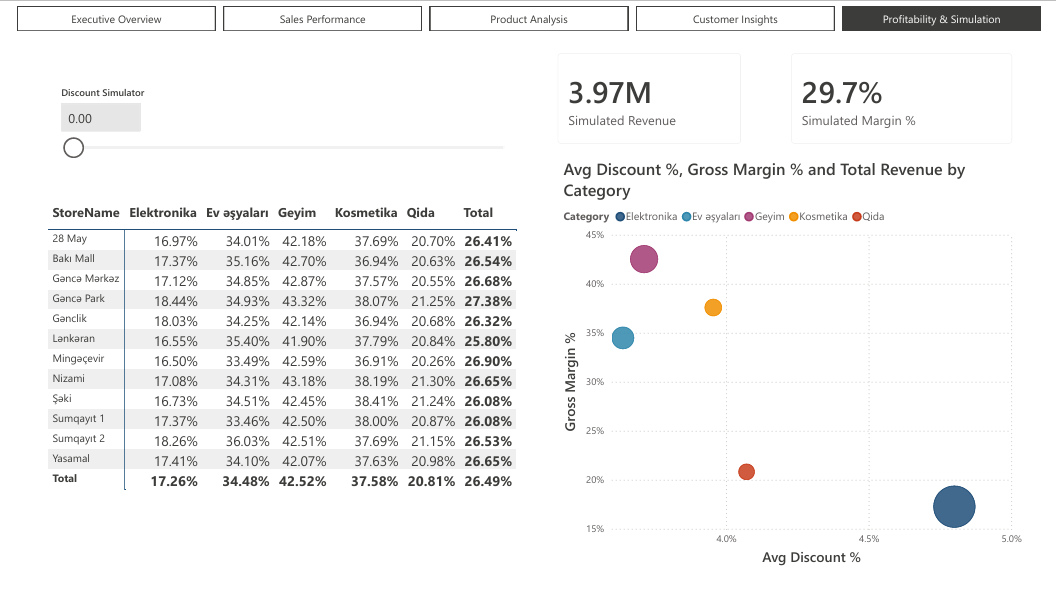

This screenshot's page, from the dashboard's own definition file:
{"tool":"powerbi","page":{"name":"Profitability & Simulation","canvas":[1280,720],"ordinal":4},"visuals":[{"type":"slicer","fields":{"Values":["Discount Simulator.Discount Simulator"]},"box":[42.4,93.7,588.3,95.1],"z":0},{"type":"cardVisual","fields":{"Data":["_Measures.Simulated Revenue"]},"box":[658.5,42.4,263.4,146.3],"z":1000},{"type":"cardVisual","fields":{"Data":["_Measures.Simulated Margin %"]},"box":[951.2,42.4,310.2,146.3],"z":2000},{"type":"pageNavigator","box":[0,0,1280.5,30.7],"z":3000},{"type":"pivotTable","fields":{"Rows":["Dim_Store.StoreName"],"Columns":["Dim_Category.Category"],"Values":["_Measures.Gross Margin %"]},"box":[33.7,241.5,605.9,376.1],"z":3001},{"type":"scatterChart","fields":{"Y":["_Measures.Gross Margin %"],"Series":["Dim_Category.Category"],"X":["_Measures.Avg Discount %"],"Size":["_Measures.Total Revenue"]},"box":[677.6,188.8,583.9,515.1],"z":3002}]}

Visuals, with their boxes in screenshot pixels (x1, y1, x2, y2), scaled from the page's 1280x720 canvas onto the 1056x594 screenshot:
slicer - Discount Simulator.Discount Simulator: {"x1": 35, "y1": 77, "x2": 520, "y2": 156}
cardVisual - _Measures.Simulated Revenue: {"x1": 543, "y1": 35, "x2": 761, "y2": 156}
cardVisual - _Measures.Simulated Margin %: {"x1": 785, "y1": 35, "x2": 1041, "y2": 156}
pageNavigator: {"x1": 0, "y1": 0, "x2": 1055, "y2": 25}
pivotTable - Dim_Store.StoreName x Dim_Category.Category: {"x1": 28, "y1": 199, "x2": 528, "y2": 510}
scatterChart - _Measures.Gross Margin % x Dim_Category.Category: {"x1": 559, "y1": 156, "x2": 1041, "y2": 581}
